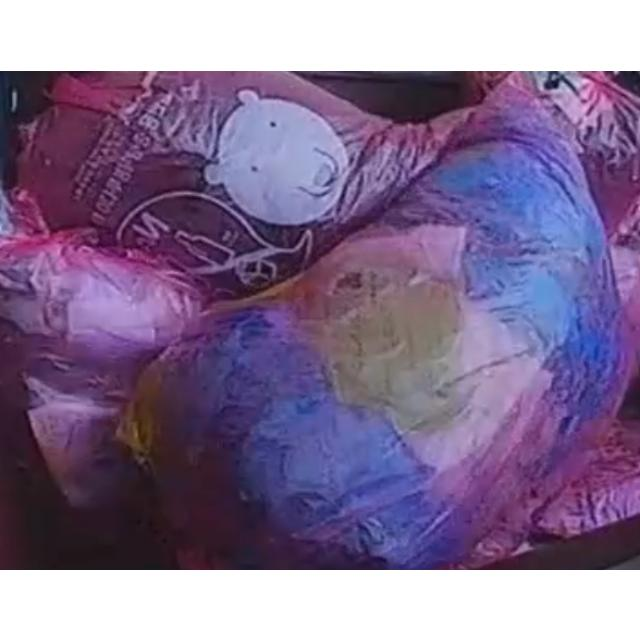other_trashbag: (120, 105, 628, 567), (18, 71, 472, 297), (0, 188, 201, 567)
